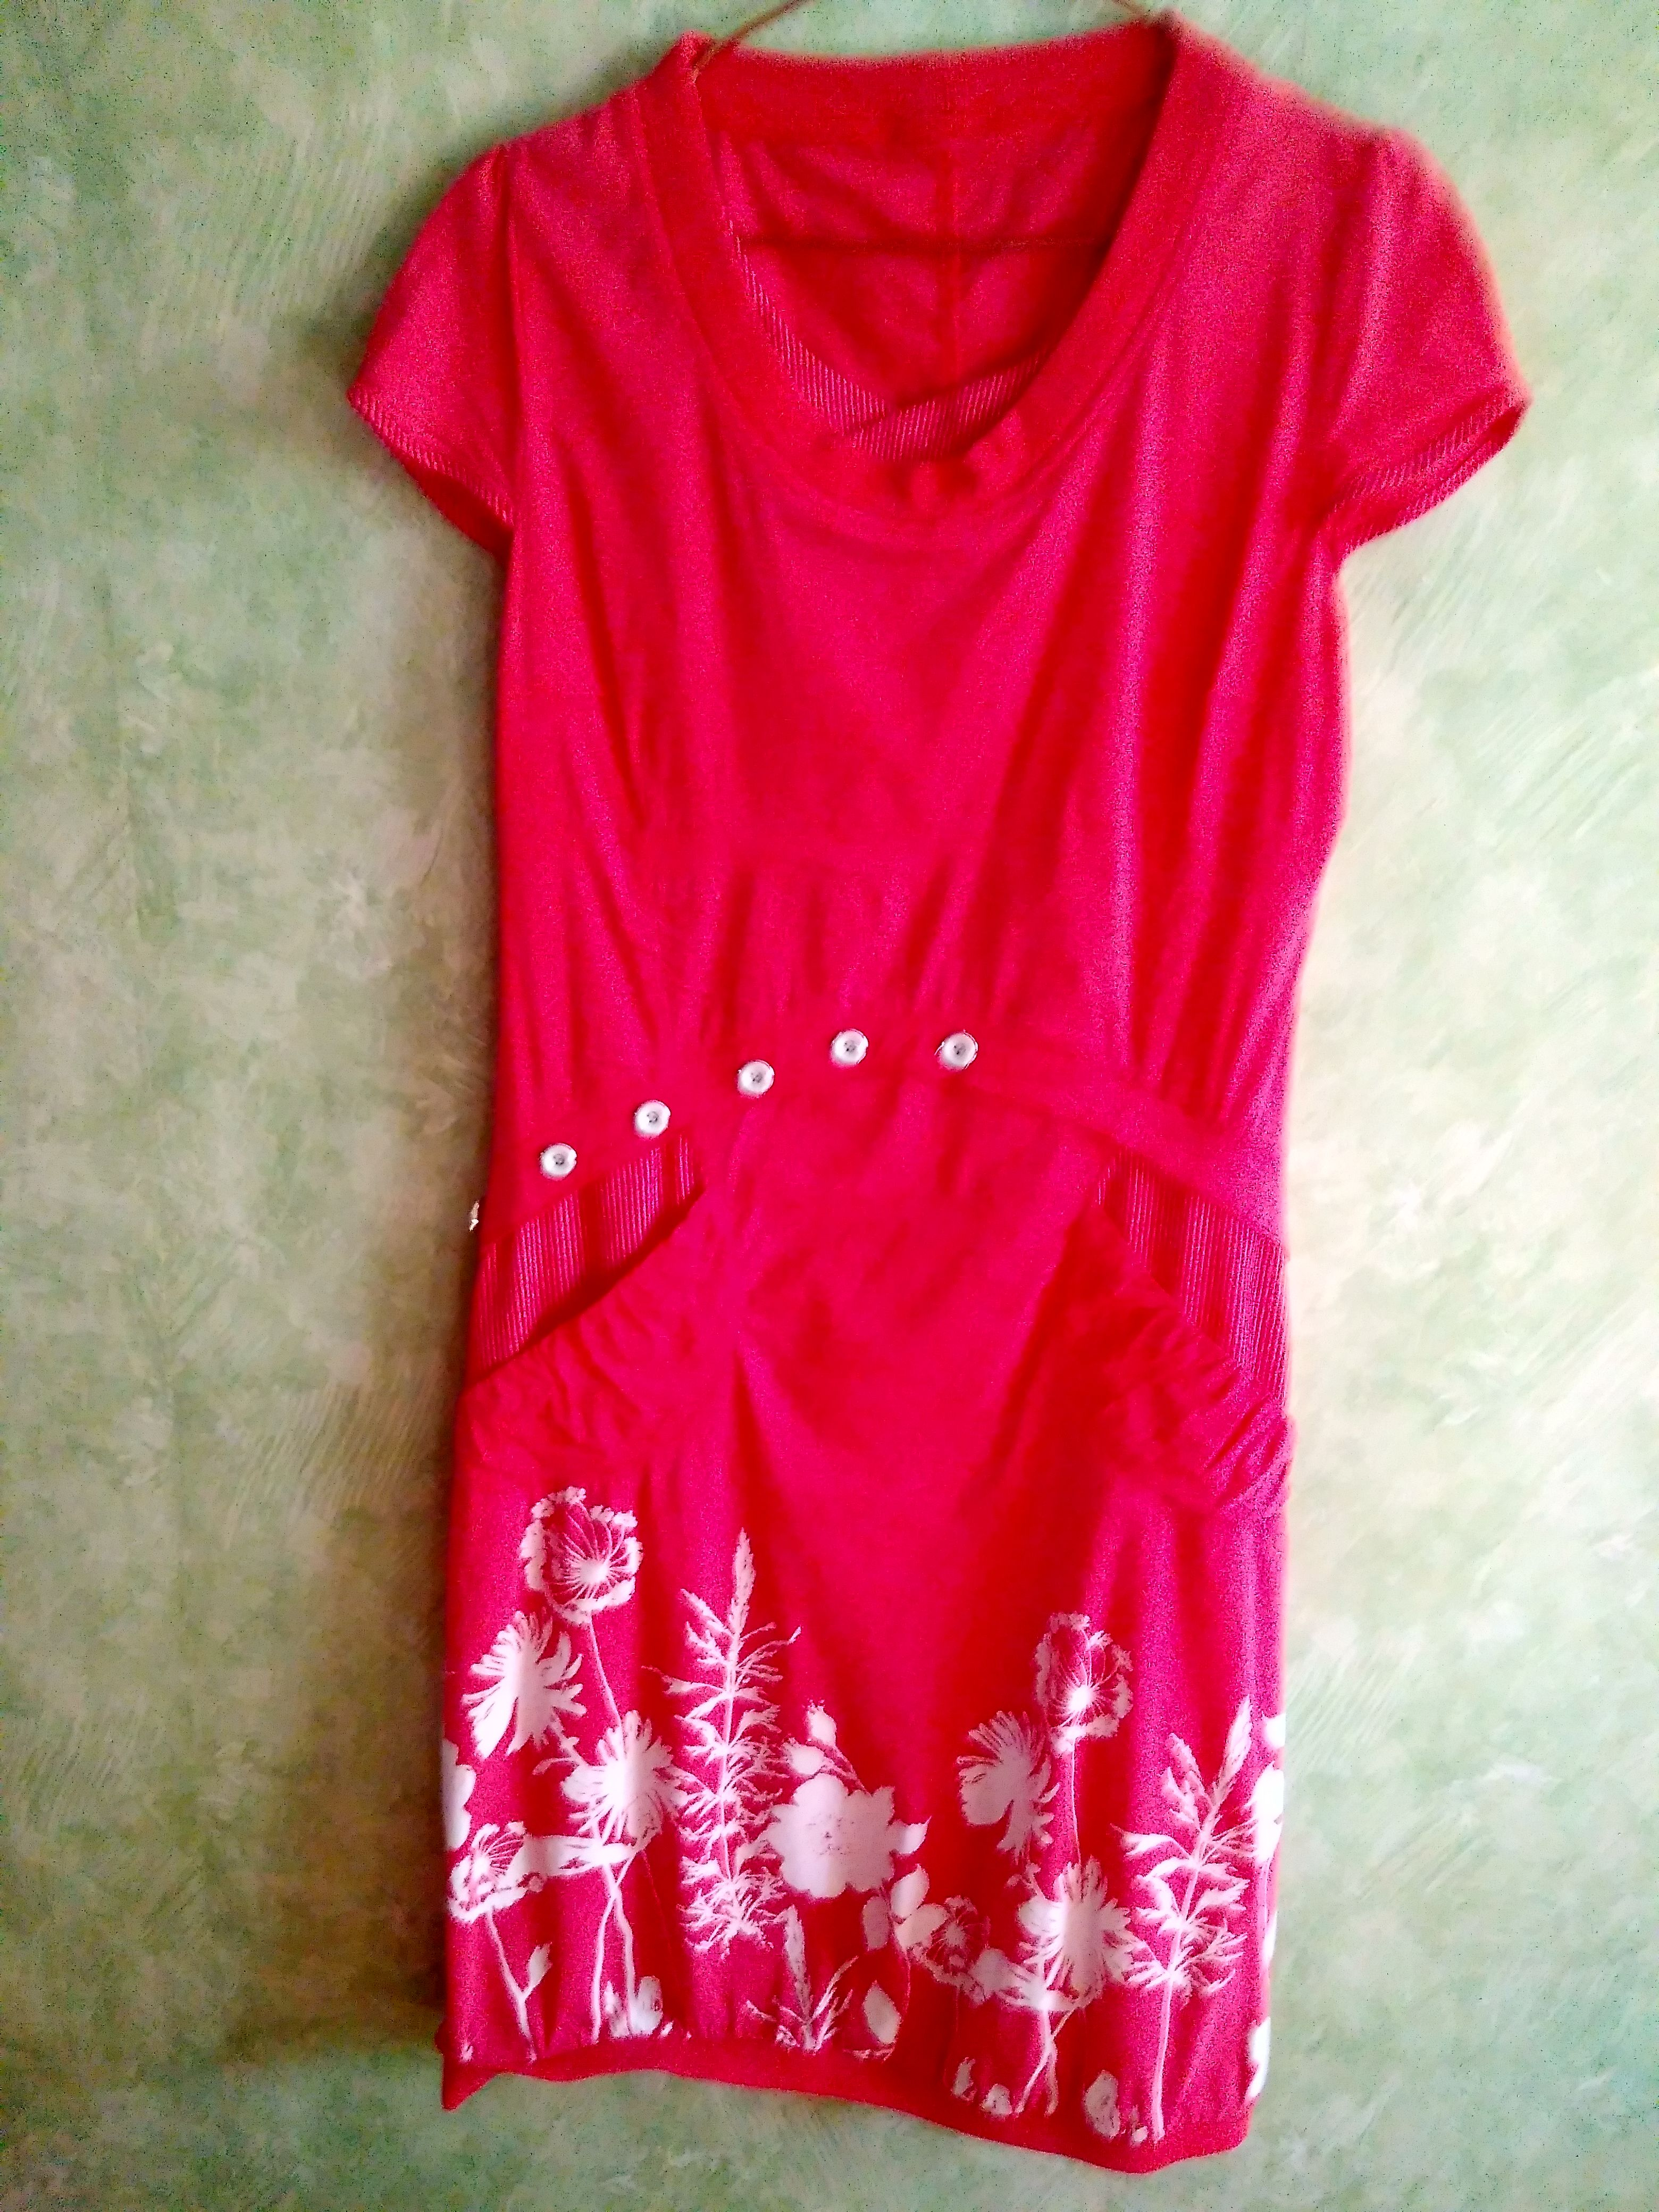clothes: (342, 35, 1509, 2193)
